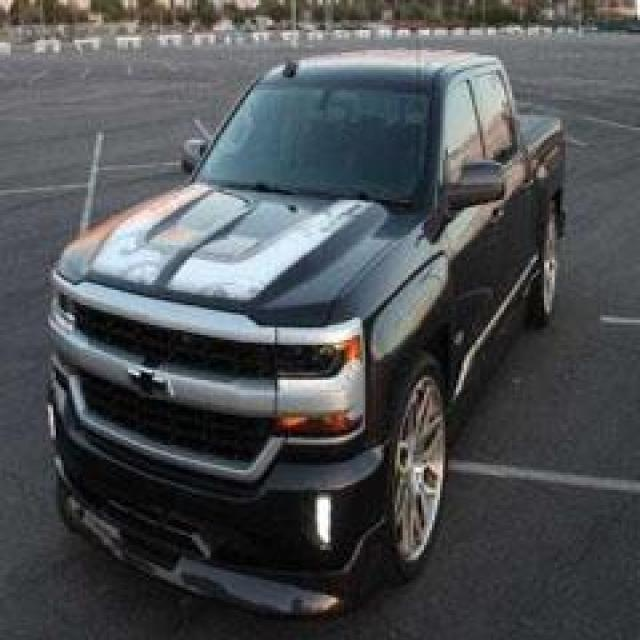car: (20, 31, 604, 629)
